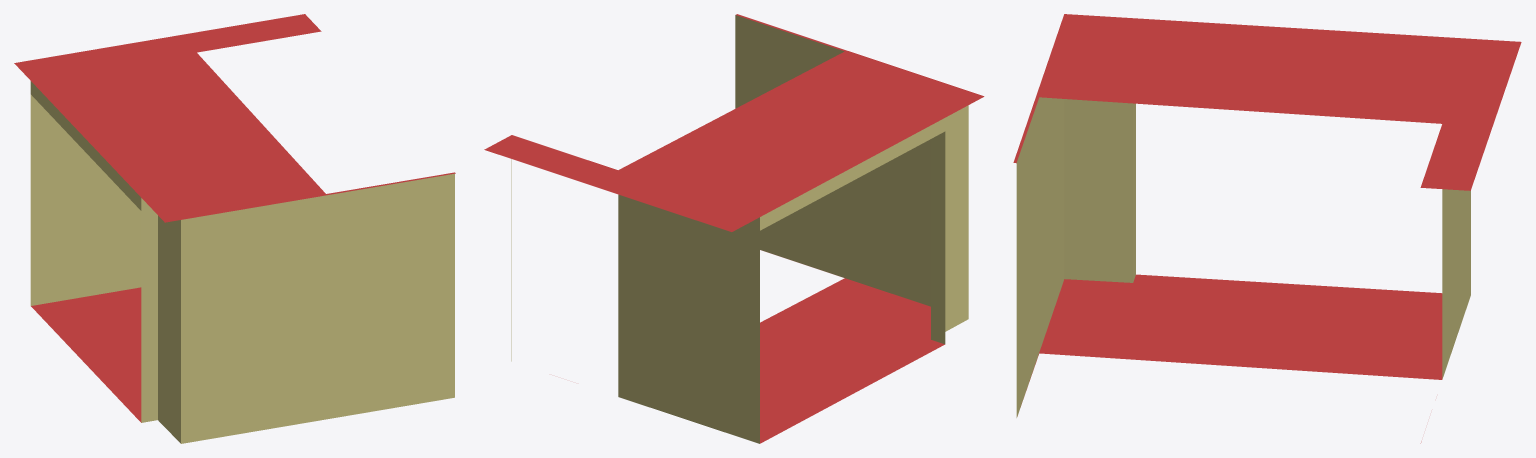
The picture shows the model from 3 angles, left to right: view 1: azimuth 30°, elevation 25°; view 2: azimuth 150°, elevation 25°; view 3: azimuth 270°, elevation 25°; orthographic projection. The views are drawn at different scales.
Size of the model in its own units: 10.33 by 12.54 by 6.97.
